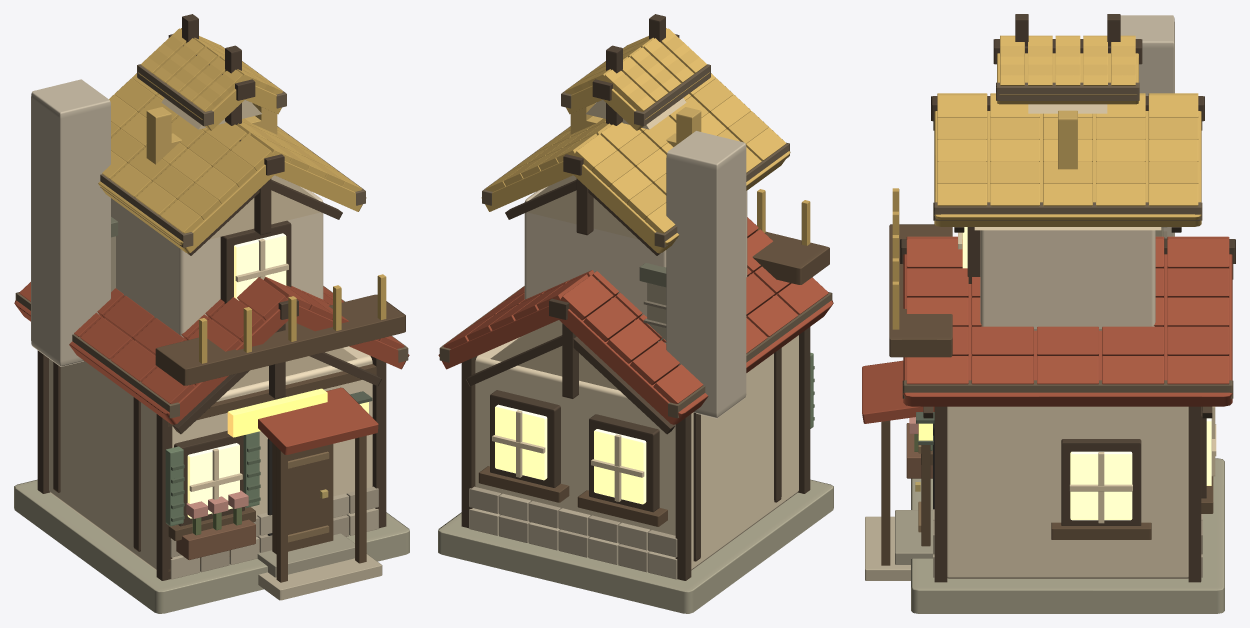
File: workshop-4-0.glb
3 renders of one model, left to right at view 1: azimuth 30°, elevation 25°; view 2: azimuth 150°, elevation 25°; view 3: azimuth 270°, elevation 25°, orthographic. The views are drawn at different scales.
Visible parts, largest first — view 1: workshop-0-4, door-hinge; view 2: workshop-0-4; view 3: workshop-0-4, door-hinge.
Boxes of the visible parts, <box> form: workshop-0-4: <box>14,14,409,613</box>; door-hinge: <box>272,443,333,554</box>; workshop-0-4: <box>438,14,833,613</box>; workshop-0-4: <box>862,14,1235,613</box>; door-hinge: <box>915,424,930,546</box>.
Size of the model in its own units: 1.91 by 3.51 by 2.24.
